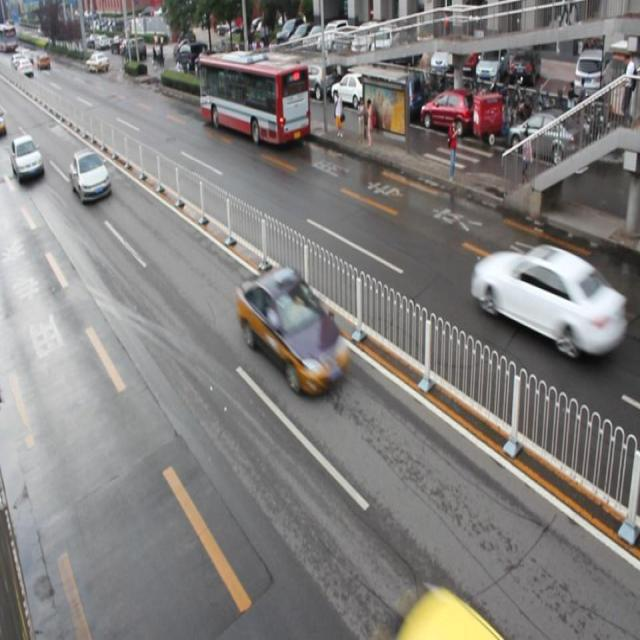car: (472, 242, 620, 354), (238, 264, 348, 394), (70, 147, 112, 204)
van: (199, 53, 308, 144)
